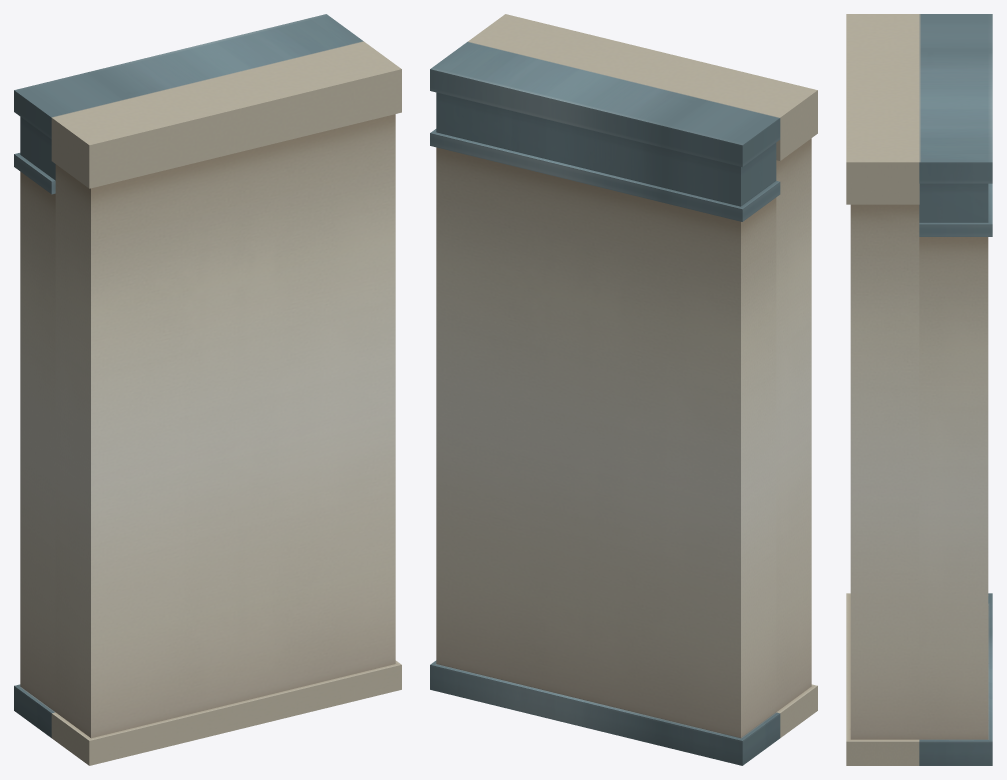
The model's file is SHW_Pillar_01_06.fbx.
3 views of the same model, side by side, from view 1: azimuth 30°, elevation 25°; view 2: azimuth 150°, elevation 25°; view 3: azimuth 270°, elevation 25° (orthographic). The views are drawn at different scales.
Parts seen in each view (by area): view 1: shw_pillar_01_06; view 2: shw_pillar_01_06; view 3: shw_pillar_01_06.
Part boxes in pixels (x1,y1,x2,y2): shw_pillar_01_06: (14, 14, 401, 765); shw_pillar_01_06: (430, 14, 817, 765); shw_pillar_01_06: (846, 14, 992, 765).
Size of the model in its own units: 158 by 300 by 66.
